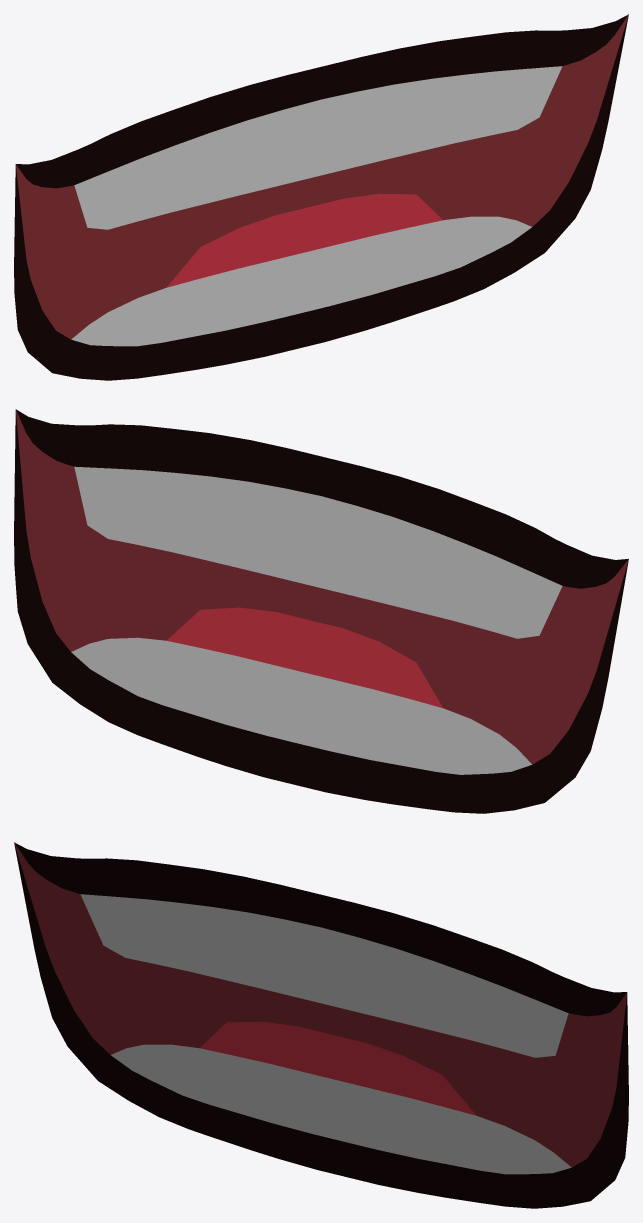
File: flip_a_e_i.glb
3 views of the same model, one above another, from view 1: azimuth 30°, elevation 25°; view 2: azimuth 150°, elevation 25°; view 3: azimuth 330°, elevation 25° (orthographic).
Visible parts, largest first — view 1: flip_a_e_i; view 2: flip_a_e_i; view 3: flip_a_e_i.
Boxes of the visible parts, bbox=[...] form: flip_a_e_i: bbox=[14, 14, 628, 380]; flip_a_e_i: bbox=[14, 409, 628, 813]; flip_a_e_i: bbox=[14, 842, 628, 1208].
Bounding box in the file's own units: 0.0708 × 0.0337 × 0.00601.
